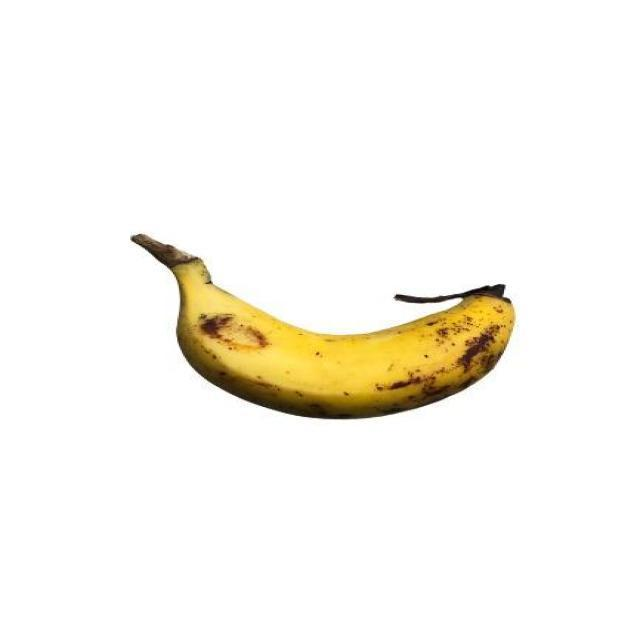Banana: (128, 226, 521, 423)
